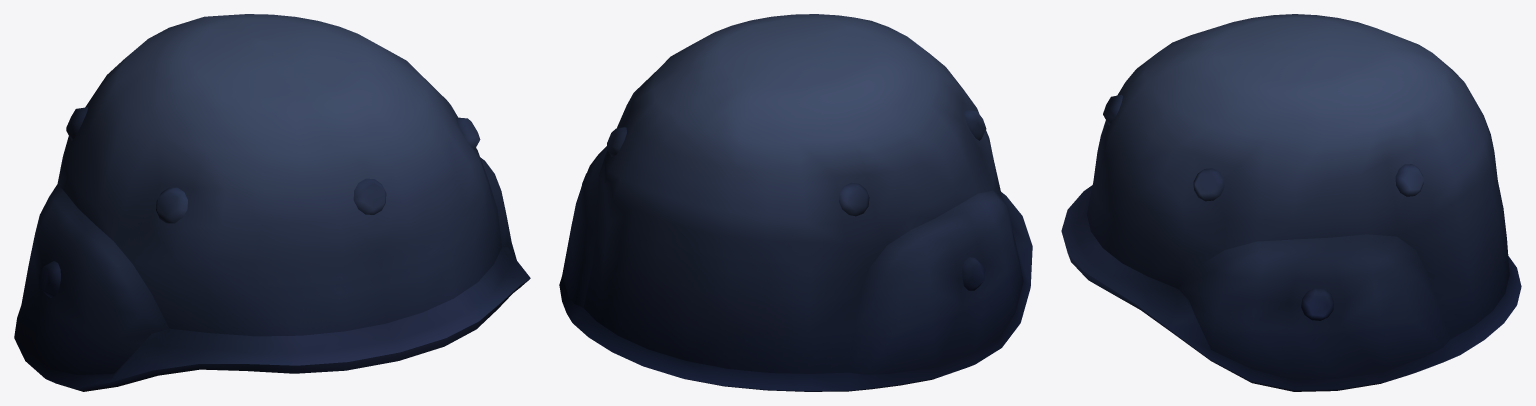
File: Cap_Assault_Helmet.gltf
The picture shows the model from 3 angles, left to right: view 1: azimuth 30°, elevation 25°; view 2: azimuth 150°, elevation 25°; view 3: azimuth 270°, elevation 25°; orthographic projection. The views are drawn at different scales.
Visible parts, largest first — view 1: Cap_Assault_Helmet; view 2: Cap_Assault_Helmet; view 3: Cap_Assault_Helmet.
Boxes of the visible parts, x1,y1,x2,y2 form: Cap_Assault_Helmet: (14, 14, 530, 391); Cap_Assault_Helmet: (559, 14, 1032, 391); Cap_Assault_Helmet: (1061, 14, 1521, 391).
Bounding box in the file's own units: 1.06 × 0.6329 × 1.04.
1 material, 1 textured.
